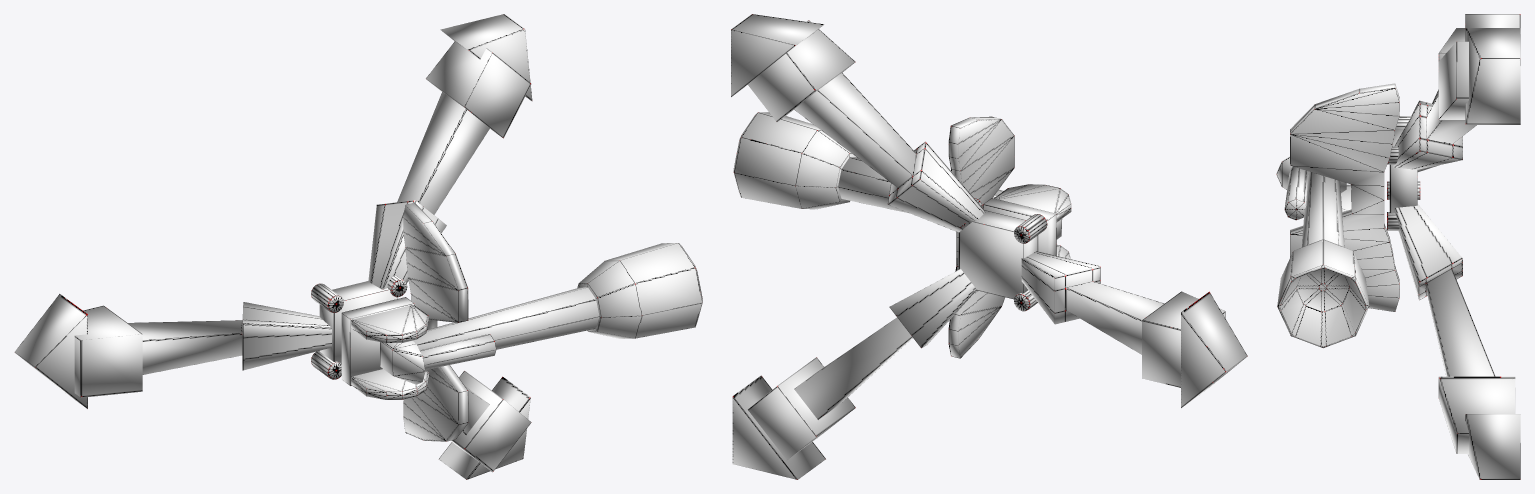
Rendered from artillery2.fbx.
3 views of the same model, side by side, from view 1: azimuth 30°, elevation 25°; view 2: azimuth 150°, elevation 25°; view 3: azimuth 270°, elevation 25° (orthographic). The views are drawn at different scales.
Visible parts, largest first — view 1: base, cannon, turret; view 2: base, cannon, turret; view 3: base, turret, cannon.
Part boxes in pixels (left/top/right/bottom): base: left=14, top=14, right=532, bottom=479; cannon: left=380, top=243, right=702, bottom=384; turret: left=341, top=202, right=468, bottom=441; base: left=731, top=14, right=1247, bottom=479; cannon: left=733, top=112, right=1062, bottom=239; turret: left=948, top=116, right=1071, bottom=358; base: left=1387, top=14, right=1520, bottom=479; turret: left=1290, top=83, right=1399, bottom=311; cannon: left=1276, top=156, right=1369, bottom=348.
Bounding box in the file's own units: 17.64 × 12.78 × 6.72.
Materials: 3 (3 with a texture image).
